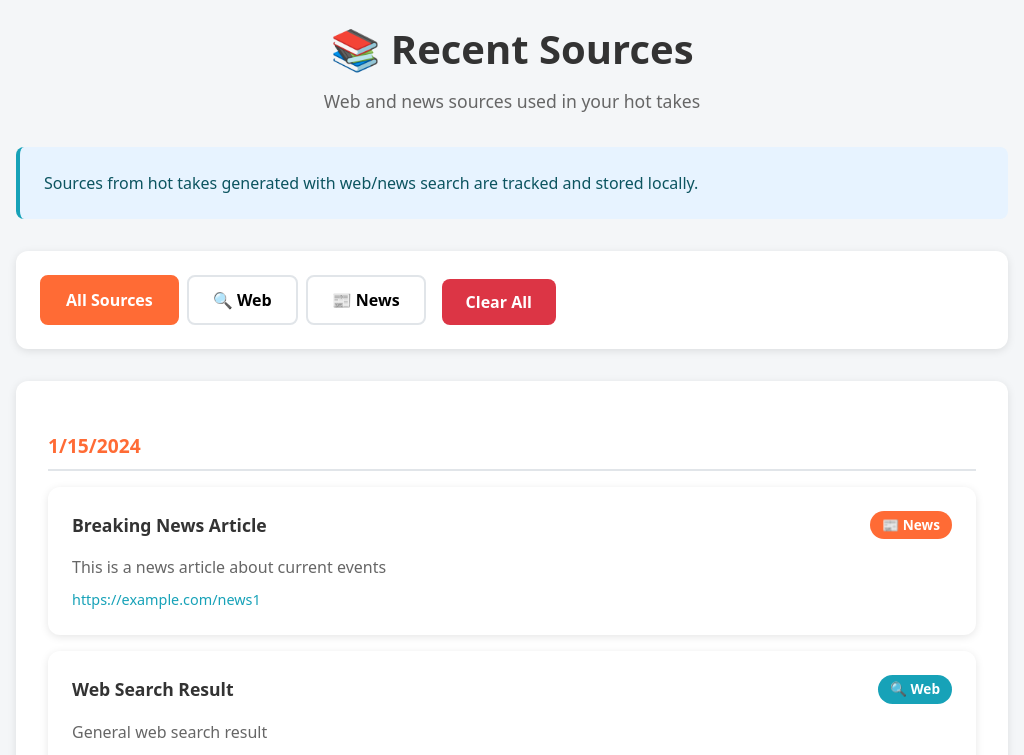
Test: SourcesPage › filters sources by web type
The image size is (1024, 755).
Click the button "🔍 Web".
click(242, 300)  # box [187,275,298,325]
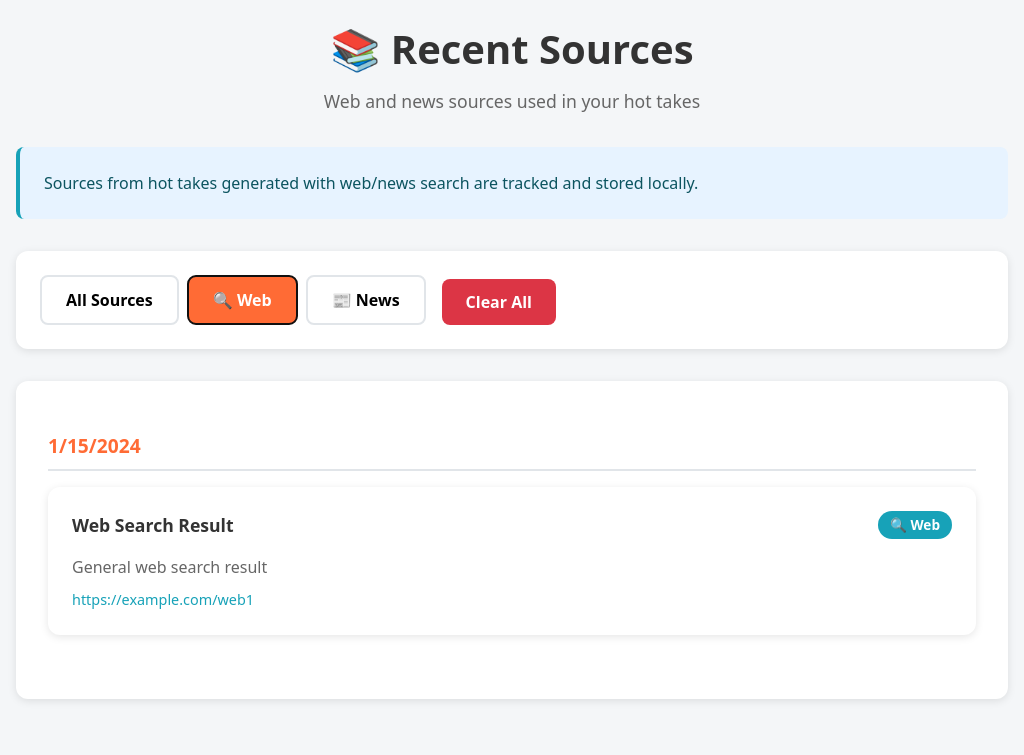
Now the link "Web Search Result" is shown, box [72,512,234,538]
Now the link "Breaking News Article" is gone
